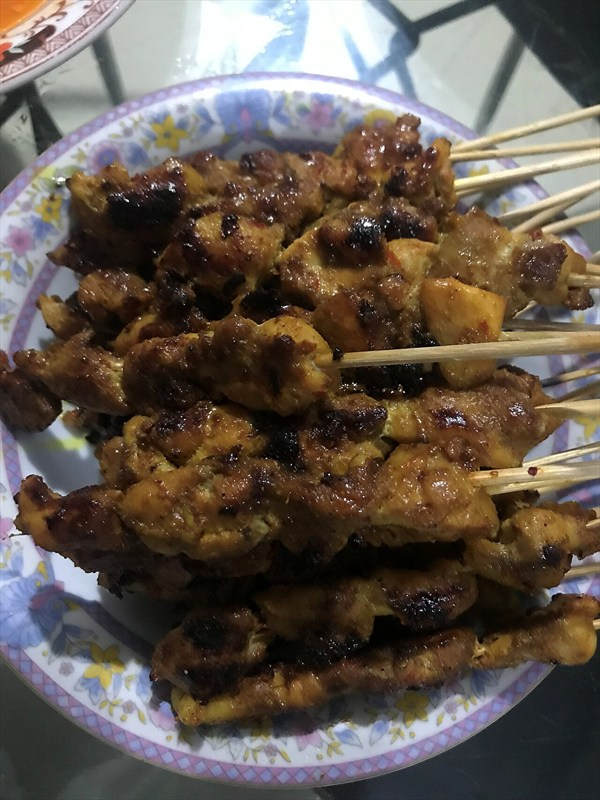Sate Ayam: (35, 19, 546, 701)
